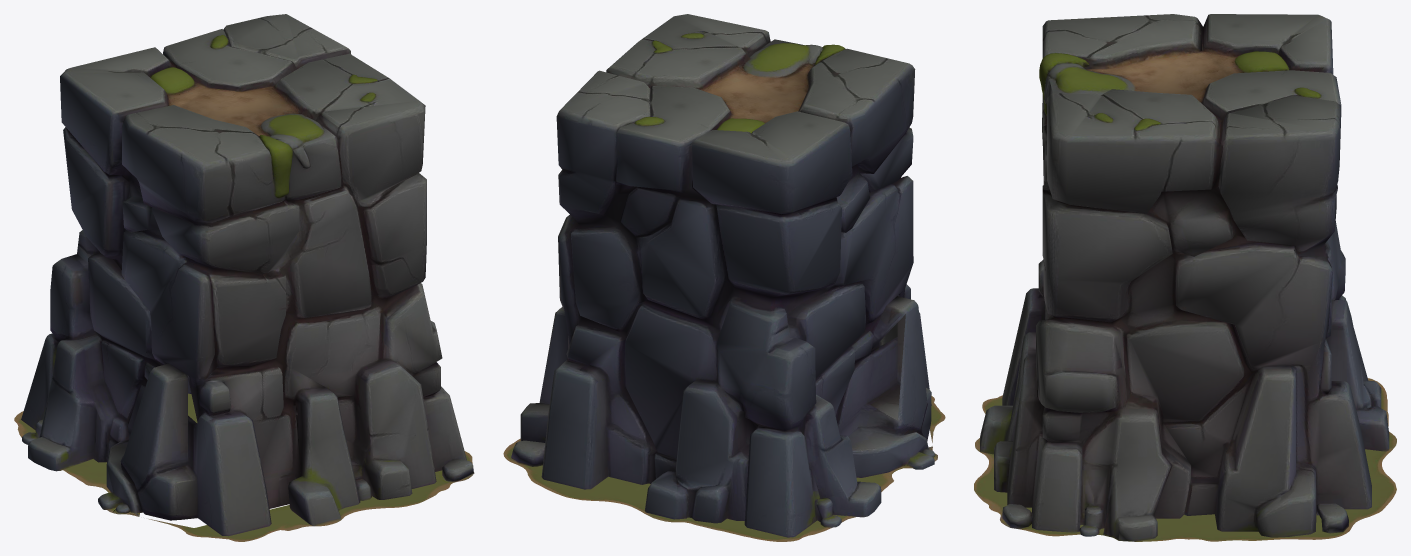
The model's file is selected.glb.
3 renders of one model, left to right at view 1: azimuth 30°, elevation 25°; view 2: azimuth 150°, elevation 25°; view 3: azimuth 270°, elevation 25°, orthographic. The views are drawn at different scales.
Visible parts, largest first — view 1: tripo_node_cbaa0fab-0bd0-4bff-bbcc-ab30f258ff72; view 2: tripo_node_cbaa0fab-0bd0-4bff-bbcc-ab30f258ff72; view 3: tripo_node_cbaa0fab-0bd0-4bff-bbcc-ab30f258ff72.
Part boxes in pixels (<box>): tripo_node_cbaa0fab-0bd0-4bff-bbcc-ab30f258ff72: <box>14,14,474,541</box>; tripo_node_cbaa0fab-0bd0-4bff-bbcc-ab30f258ff72: <box>503,14,945,541</box>; tripo_node_cbaa0fab-0bd0-4bff-bbcc-ab30f258ff72: <box>974,14,1396,541</box>.
Bounding box in the file's own units: 0.998 × 0.9902 × 0.998.
1 material, 1 textured.
